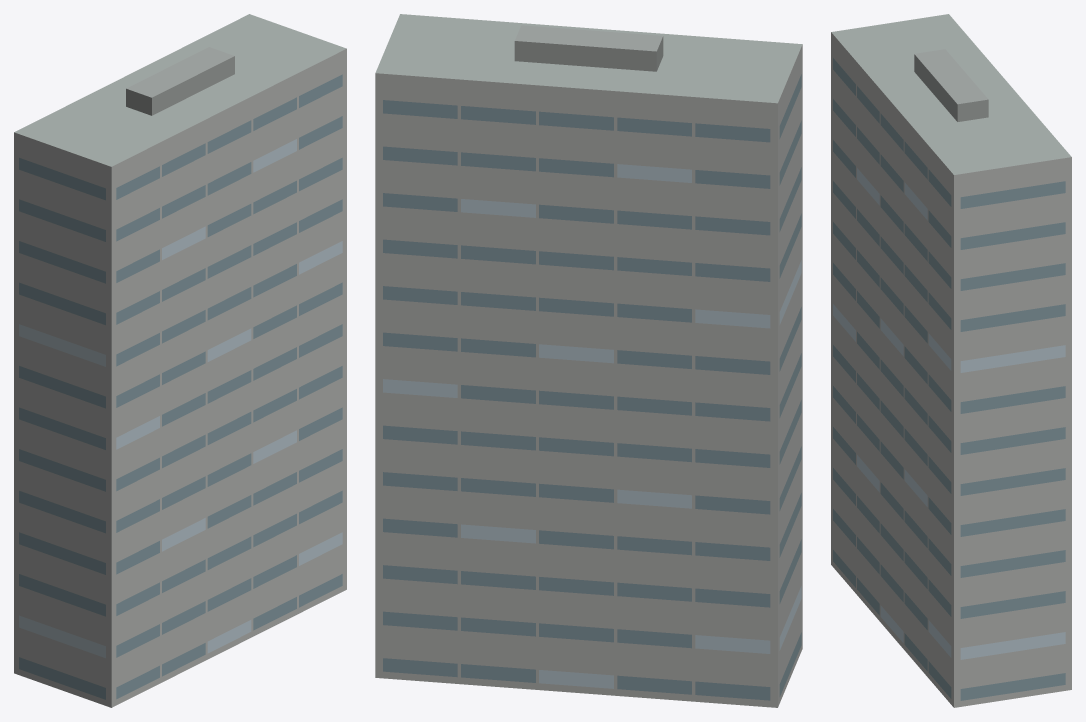
File: fallback-songpa-helio-city-303.glb
3 views of the same model, side by side, from view 1: azimuth 30°, elevation 25°; view 2: azimuth 150°, elevation 25°; view 3: azimuth 270°, elevation 25° (orthographic). The views are drawn at different scales.
Parts seen in each view (by area): view 1: fallback-songpa-helio-city-303; view 2: fallback-songpa-helio-city-303; view 3: fallback-songpa-helio-city-303.
Boxes of the visible parts, box(x1,y1,x2,y2) form: fallback-songpa-helio-city-303: box(14, 14, 346, 707); fallback-songpa-helio-city-303: box(375, 14, 802, 707); fallback-songpa-helio-city-303: box(831, 14, 1071, 707).
Bounding box in the file's own units: 46.45 × 74 × 29.31.
